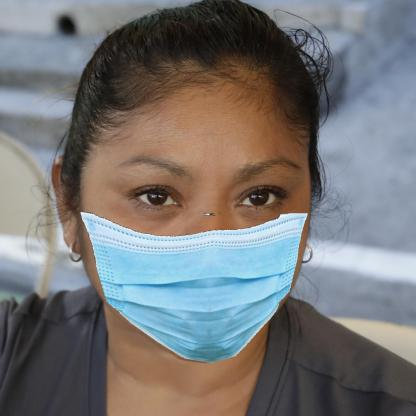Correctly_Masked: (71, 0, 316, 365)
